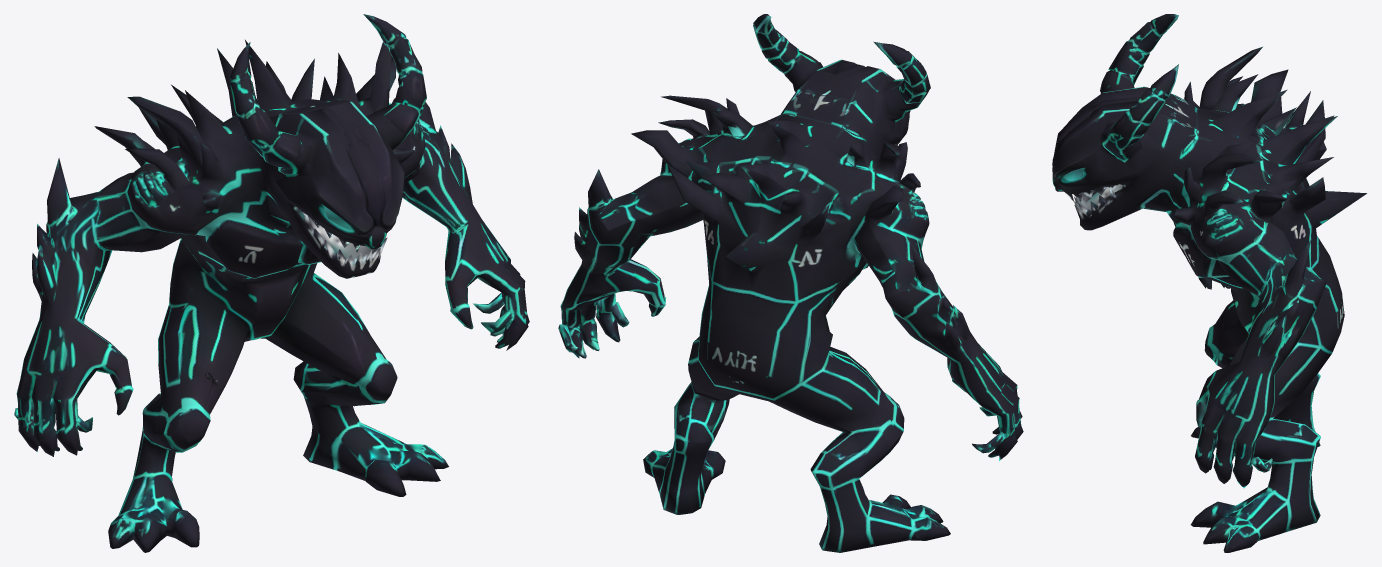
The model's file is monster.glb.
3 renders of one model, left to right at view 1: azimuth 30°, elevation 25°; view 2: azimuth 150°, elevation 25°; view 3: azimuth 270°, elevation 25°, orthographic. The views are drawn at different scales.
Visible parts, largest first — view 1: material; view 2: material; view 3: material.
Boxes of the visible parts, x1=… form: material: x1=14, y1=14, x2=529, y2=552; material: x1=558, y1=14, x2=1023, y2=552; material: x1=1052, y1=14, x2=1366, y2=552.
Bounding box in the file's own units: 1.9 × 1.81 × 1.18.
1 material, 1 textured.
